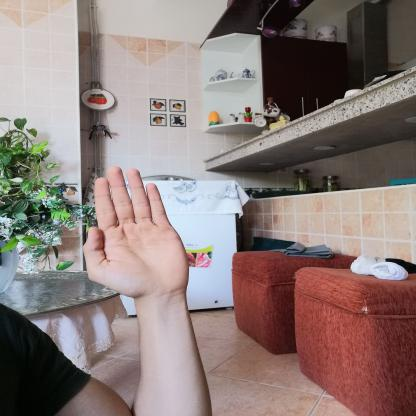SEEN: (74, 159, 199, 302)
